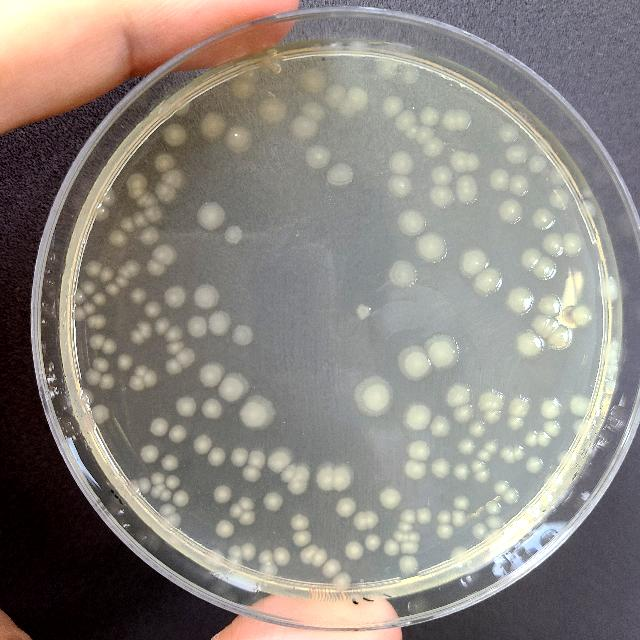colony: (355, 376, 395, 418), (238, 394, 276, 430), (426, 334, 460, 370), (398, 346, 432, 382), (218, 372, 252, 402), (458, 247, 489, 277), (417, 233, 447, 263), (402, 402, 432, 432), (506, 284, 534, 314), (516, 330, 544, 360), (473, 267, 502, 295), (198, 202, 226, 230), (200, 112, 228, 140), (258, 98, 288, 124), (398, 210, 426, 237), (389, 261, 418, 287), (268, 446, 294, 474), (290, 116, 320, 140), (546, 324, 572, 351), (388, 174, 414, 200), (389, 150, 415, 176), (226, 126, 252, 152), (305, 144, 331, 170), (301, 68, 327, 94), (477, 389, 505, 413), (326, 162, 354, 185), (194, 284, 220, 308), (208, 310, 232, 336), (429, 186, 455, 210), (201, 362, 225, 388), (531, 316, 559, 338), (457, 176, 478, 204), (537, 294, 561, 318), (499, 199, 523, 223), (508, 394, 532, 418), (165, 124, 188, 148), (333, 463, 352, 491), (534, 257, 556, 281), (324, 84, 346, 108), (375, 56, 397, 80), (154, 151, 178, 173), (152, 245, 178, 265), (160, 168, 186, 188), (232, 78, 255, 100), (521, 248, 543, 270), (448, 384, 470, 406), (549, 188, 571, 210), (533, 208, 555, 230), (429, 414, 451, 436), (155, 182, 177, 204), (572, 304, 592, 328), (490, 168, 510, 192), (543, 232, 563, 256), (317, 462, 333, 492), (166, 286, 187, 308), (382, 96, 403, 118), (381, 487, 402, 509), (408, 441, 430, 462), (233, 324, 253, 346), (188, 316, 208, 338), (396, 110, 416, 132), (348, 87, 368, 109), (506, 144, 528, 164), (563, 232, 583, 254), (404, 460, 426, 480), (175, 347, 195, 369), (570, 396, 592, 416), (570, 418, 592, 438), (170, 97, 192, 117), (418, 106, 439, 126), (510, 176, 530, 197), (177, 397, 197, 418), (336, 498, 356, 518), (202, 399, 222, 419), (263, 492, 283, 512), (398, 555, 418, 575), (540, 398, 560, 418), (90, 404, 110, 424), (431, 167, 453, 185), (454, 404, 476, 422), (600, 278, 618, 300), (482, 528, 504, 546), (499, 122, 518, 142), (248, 448, 266, 469), (450, 152, 468, 172), (304, 102, 324, 120), (550, 166, 570, 184), (194, 434, 212, 454), (168, 425, 188, 443), (208, 447, 226, 467), (432, 459, 450, 479), (292, 530, 312, 548), (140, 445, 160, 463), (525, 456, 543, 476), (310, 548, 328, 568), (321, 559, 341, 577), (332, 572, 352, 590), (205, 549, 225, 567), (110, 229, 128, 249), (140, 225, 158, 245), (350, 40, 370, 58), (456, 108, 472, 130), (151, 418, 169, 437), (231, 448, 249, 467), (453, 462, 471, 481), (400, 64, 418, 82), (468, 421, 486, 439), (214, 485, 232, 503), (216, 520, 234, 538), (346, 542, 364, 560), (172, 490, 190, 508), (451, 546, 469, 564), (300, 546, 318, 564), (145, 204, 163, 222), (92, 204, 110, 222), (224, 225, 243, 242), (424, 138, 444, 154), (338, 100, 358, 116), (528, 156, 548, 172), (295, 462, 311, 482), (287, 478, 307, 494), (290, 514, 310, 530), (274, 546, 290, 566), (162, 513, 182, 529), (543, 419, 561, 436), (281, 463, 297, 482), (167, 340, 186, 356), (164, 326, 183, 342), (137, 322, 153, 341), (356, 303, 372, 321), (148, 261, 166, 277), (417, 128, 435, 144), (443, 108, 455, 132), (243, 466, 261, 482), (580, 200, 596, 218), (165, 358, 183, 374), (155, 317, 171, 335), (131, 288, 147, 306), (502, 488, 520, 504), (500, 446, 516, 464), (260, 563, 278, 579), (134, 211, 150, 229), (92, 357, 110, 373), (86, 369, 102, 387), (99, 372, 115, 390), (78, 388, 94, 406), (451, 510, 467, 528), (128, 174, 148, 188), (120, 215, 136, 232), (458, 438, 474, 454), (145, 302, 161, 318), (130, 330, 146, 346), (453, 495, 469, 511), (436, 510, 452, 526), (416, 508, 432, 524), (384, 540, 400, 556), (162, 455, 178, 471), (486, 500, 502, 516), (472, 523, 488, 539), (165, 474, 181, 490), (100, 189, 116, 205), (99, 267, 115, 283), (80, 280, 96, 296), (90, 334, 106, 350), (102, 338, 118, 354), (467, 152, 481, 170), (407, 122, 421, 140), (353, 512, 367, 530), (143, 370, 157, 388), (484, 410, 502, 424), (506, 416, 524, 430), (238, 511, 256, 525), (366, 534, 380, 552), (401, 540, 419, 554), (436, 525, 454, 539), (524, 430, 538, 448), (538, 430, 552, 448), (474, 468, 491, 482), (130, 376, 146, 390), (229, 502, 243, 518), (400, 510, 416, 524), (242, 544, 256, 560), (494, 480, 510, 494), (471, 460, 487, 474), (118, 354, 132, 370), (86, 262, 102, 276), (91, 292, 107, 306), (106, 282, 122, 296), (125, 260, 139, 276), (73, 306, 87, 322), (72, 288, 86, 304), (367, 510, 379, 528), (486, 517, 504, 529), (129, 186, 147, 198), (160, 504, 177, 516), (258, 550, 272, 564), (484, 440, 498, 454), (151, 484, 165, 498), (118, 266, 132, 280), (134, 365, 150, 377), (476, 450, 492, 462), (240, 496, 254, 509), (96, 314, 106, 331), (398, 522, 412, 534), (230, 546, 242, 560), (139, 478, 151, 492), (160, 488, 172, 502), (84, 302, 96, 316), (514, 445, 524, 461), (408, 530, 420, 542), (116, 276, 128, 288), (271, 64, 283, 76), (152, 474, 166, 484), (129, 480, 139, 494), (87, 314, 97, 328), (582, 187, 592, 199), (394, 531, 404, 543)
